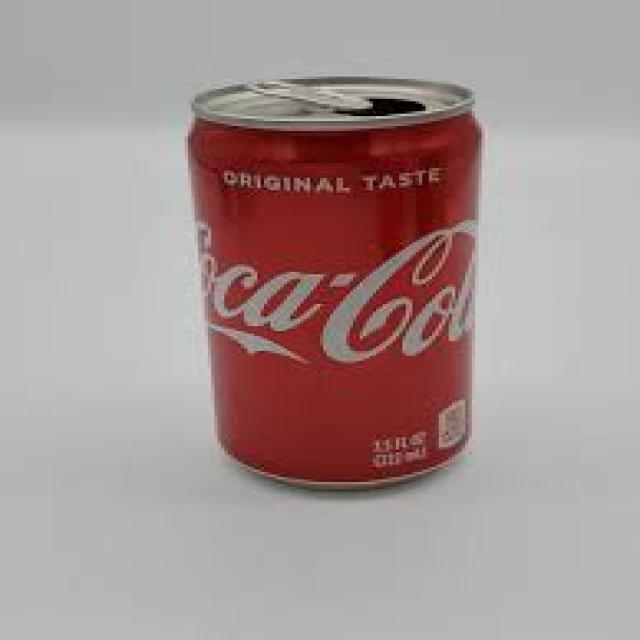can: (189, 54, 529, 537)
